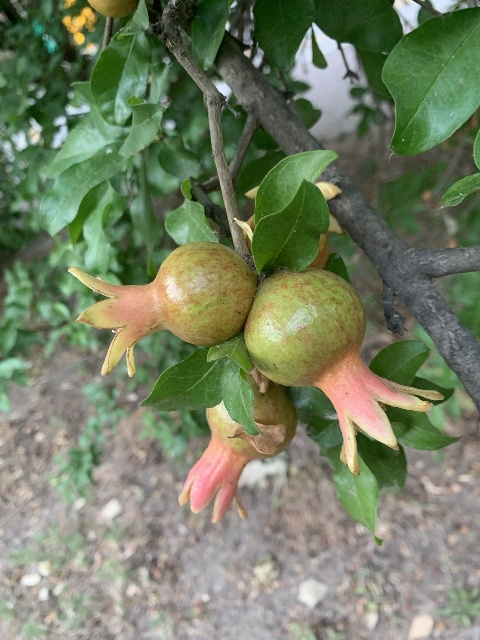early-fruit: (243, 269, 443, 475), (68, 241, 256, 378), (178, 378, 296, 523)
